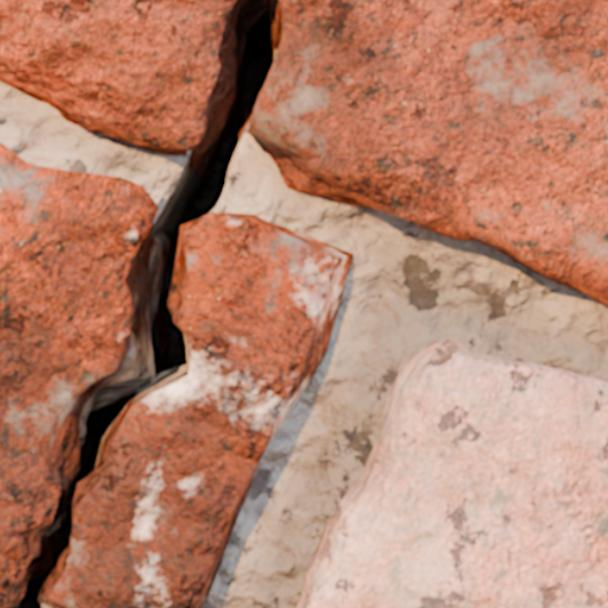brick: (298, 340, 607, 607)
broken_brick: (40, 212, 354, 607), (255, 0, 607, 307), (0, 141, 158, 593), (0, 0, 233, 156), (0, 597, 19, 607)
crack: (0, 0, 284, 607)
